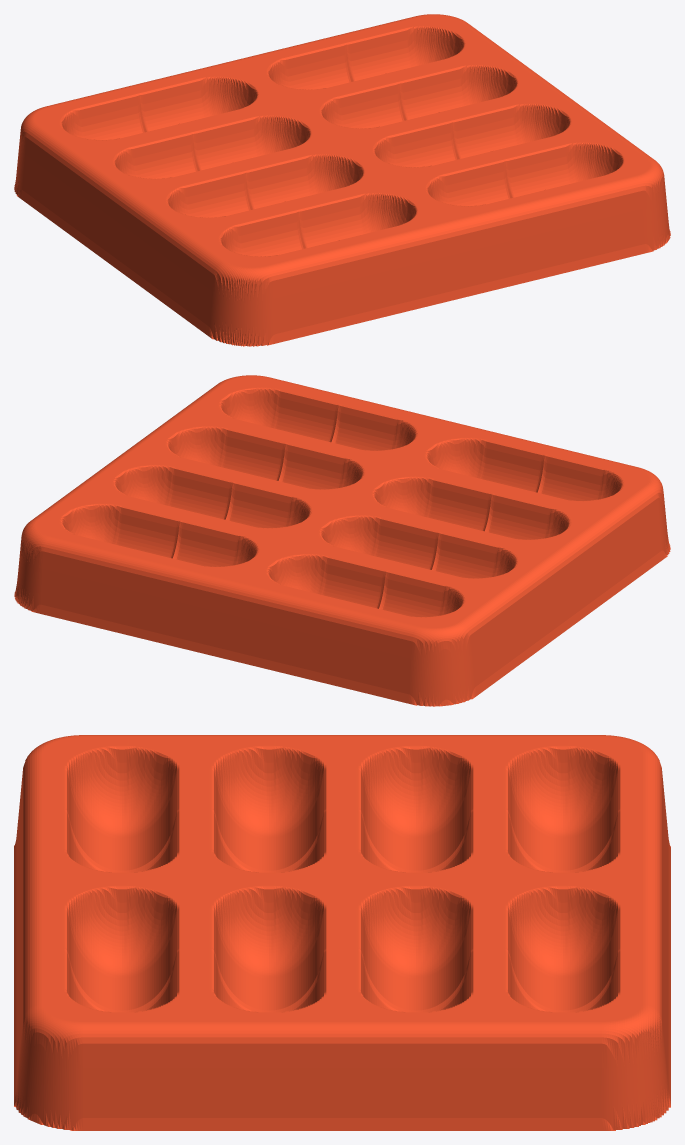
File: mold.glb
The picture shows the model from 3 angles, top to bottom: view 1: azimuth 30°, elevation 25°; view 2: azimuth 150°, elevation 25°; view 3: azimuth 270°, elevation 25°; orthographic projection. The views are drawn at different scales.
Parts seen in each view (by area): view 1: geometry_0; view 2: geometry_0; view 3: geometry_0.
Part boxes in pixels (x1,y1,x2,y2): geometry_0: (14, 14, 670, 346); geometry_0: (14, 375, 670, 706); geometry_0: (14, 735, 670, 1130).
Bounding box in the file's own units: 0.0956 × 0.014 × 0.086.
